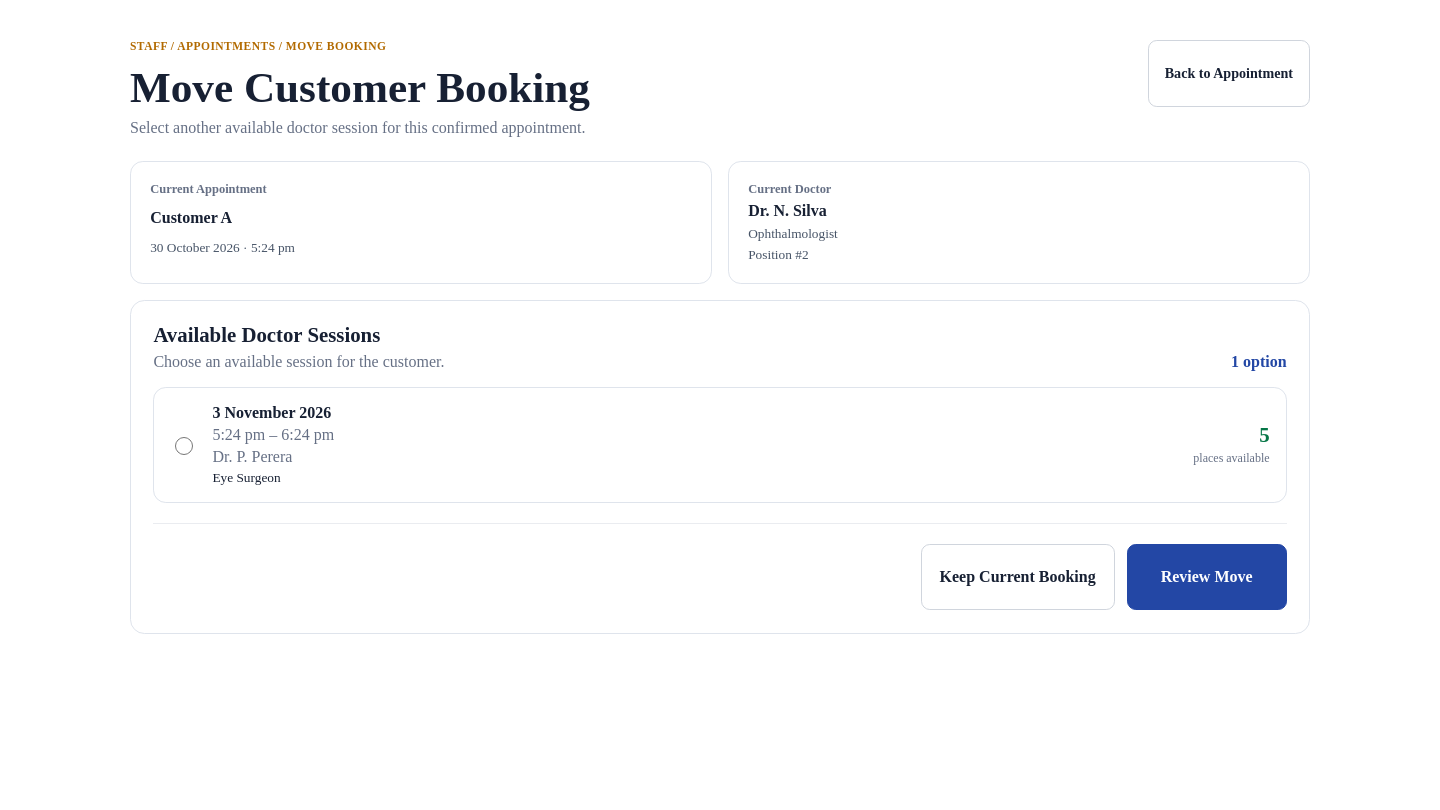
Test: StaffMoveAppointmentPage › shows DUPLICATE_BOOKING reassignment conflicts safely
This screenshot has width=1440, height=810.
Expected: the text "Dr. P. Perera" is shown, [212, 448, 292, 464]
Click the radio button at (184, 446), box [175, 437, 193, 455]
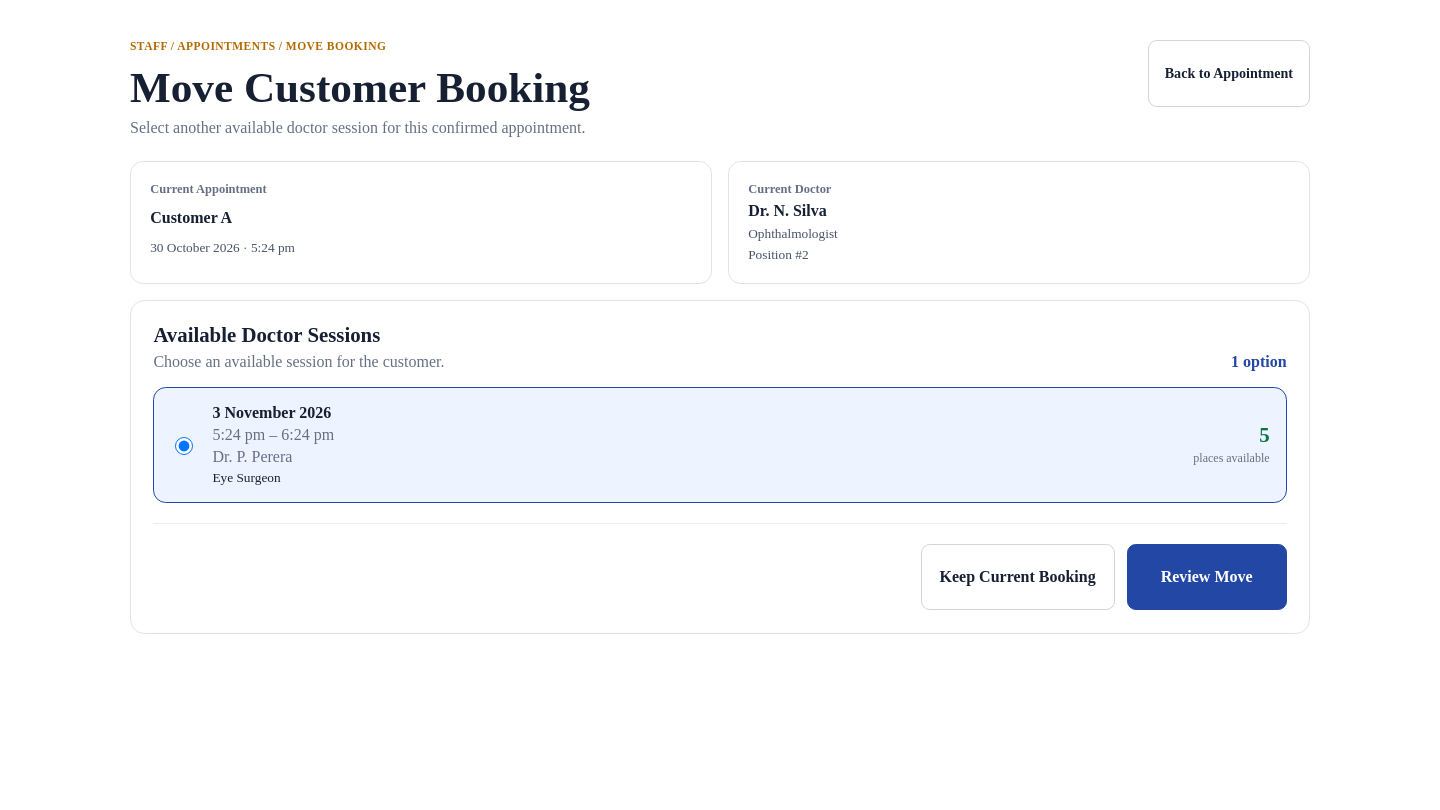
Click the button "Review Move" at (1207, 577), box [1127, 544, 1287, 610]
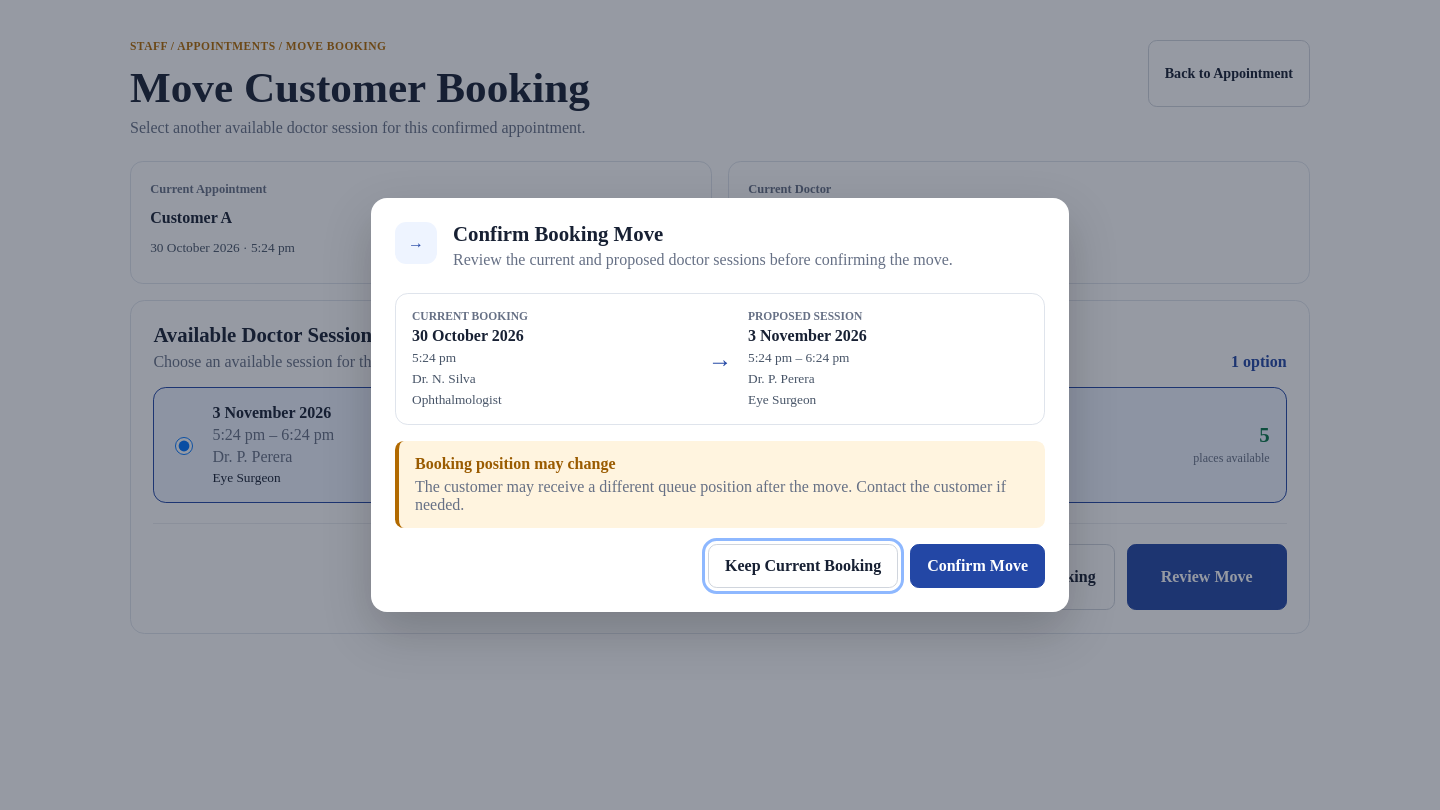
Click the button "Confirm Move" at (978, 566), box [910, 544, 1045, 588]
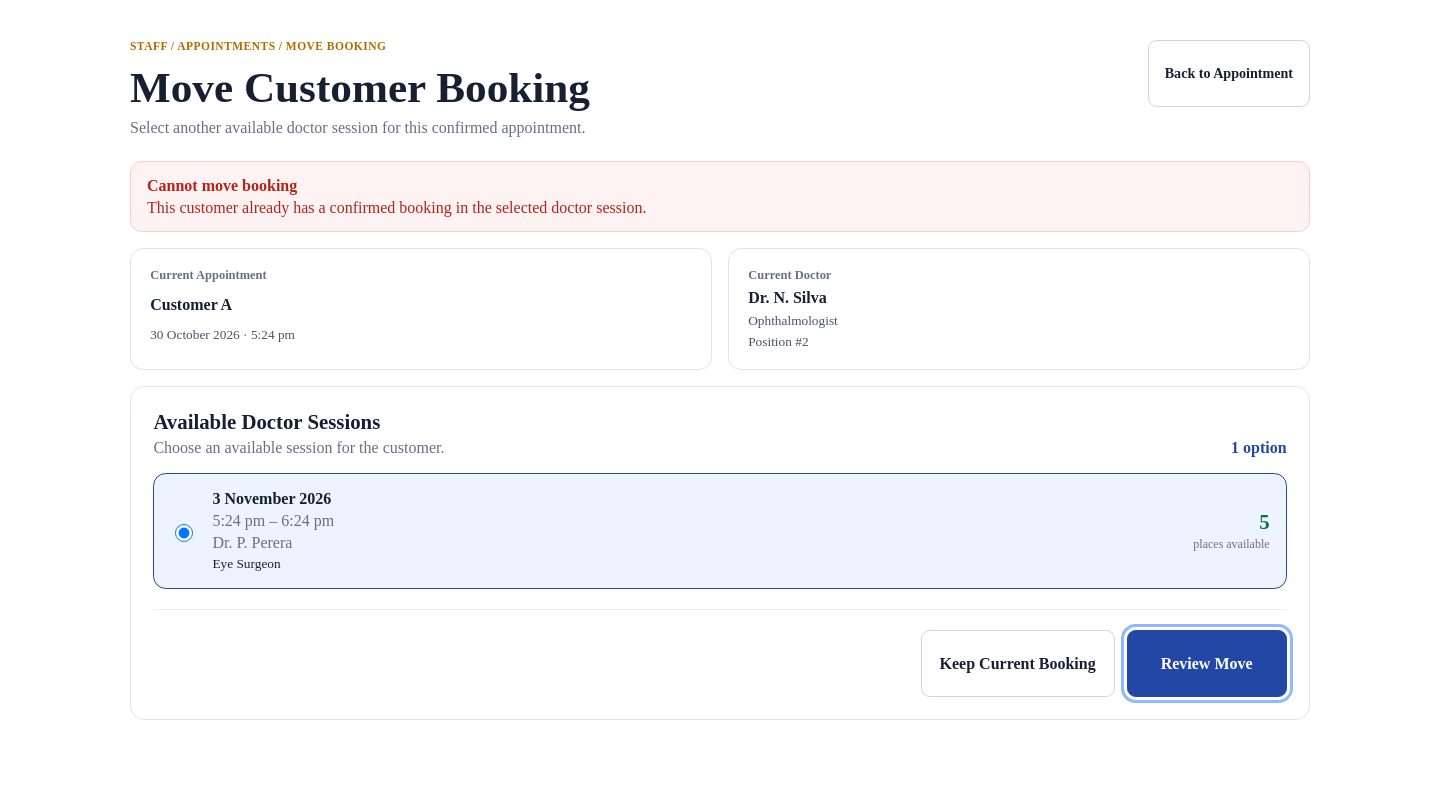
Expected: the message shows "already has a confirmed booking", [147, 199, 646, 216]
